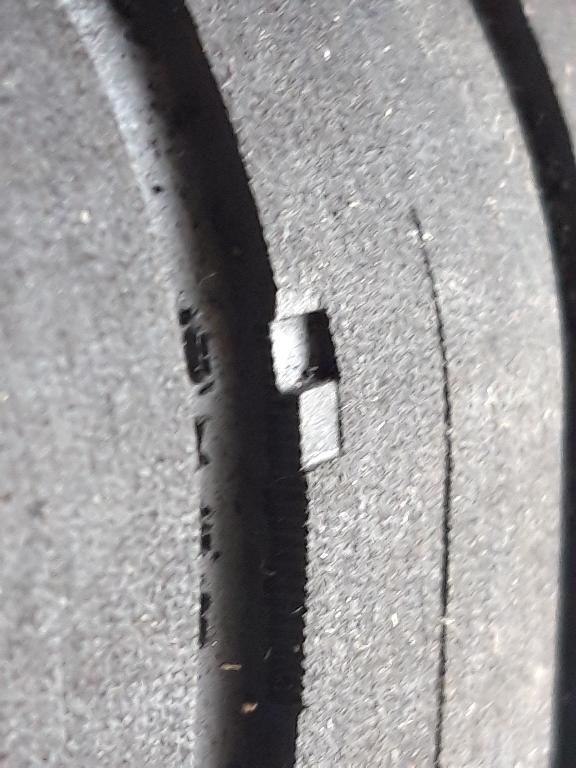temoin:25: (229, 297, 356, 490)
